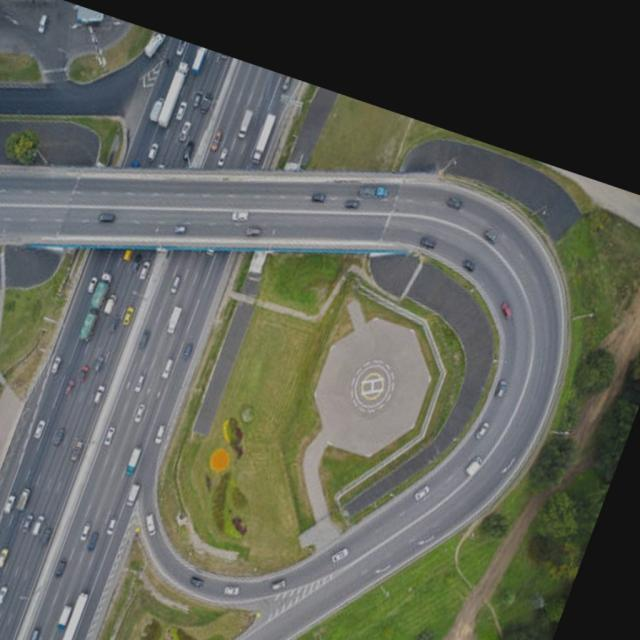helipad: (352, 363, 392, 409)
